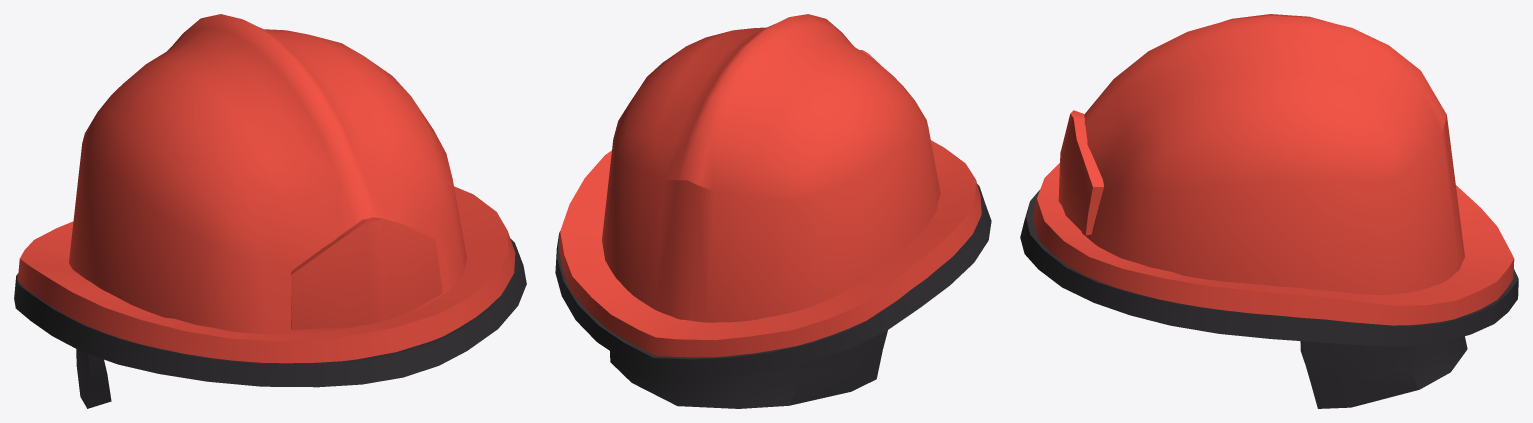
Rendered from 16消防头盔.fbx.
3 views of the same model, side by side, from view 1: azimuth 30°, elevation 25°; view 2: azimuth 150°, elevation 25°; view 3: azimuth 270°, elevation 25° (orthographic). The views are drawn at different scales.
Parts seen in each view (by area): view 1: 16消防头盔; view 2: 16消防头盔; view 3: 16消防头盔.
Boxes of the visible parts, left/top/right/bottom form: 16消防头盔: left=14, top=14, right=526, bottom=408; 16消防头盔: left=555, top=14, right=991, bottom=408; 16消防头盔: left=1020, top=14, right=1518, bottom=408.
Size of the model in its own units: 0.5206 by 0.4311 by 0.5794.
